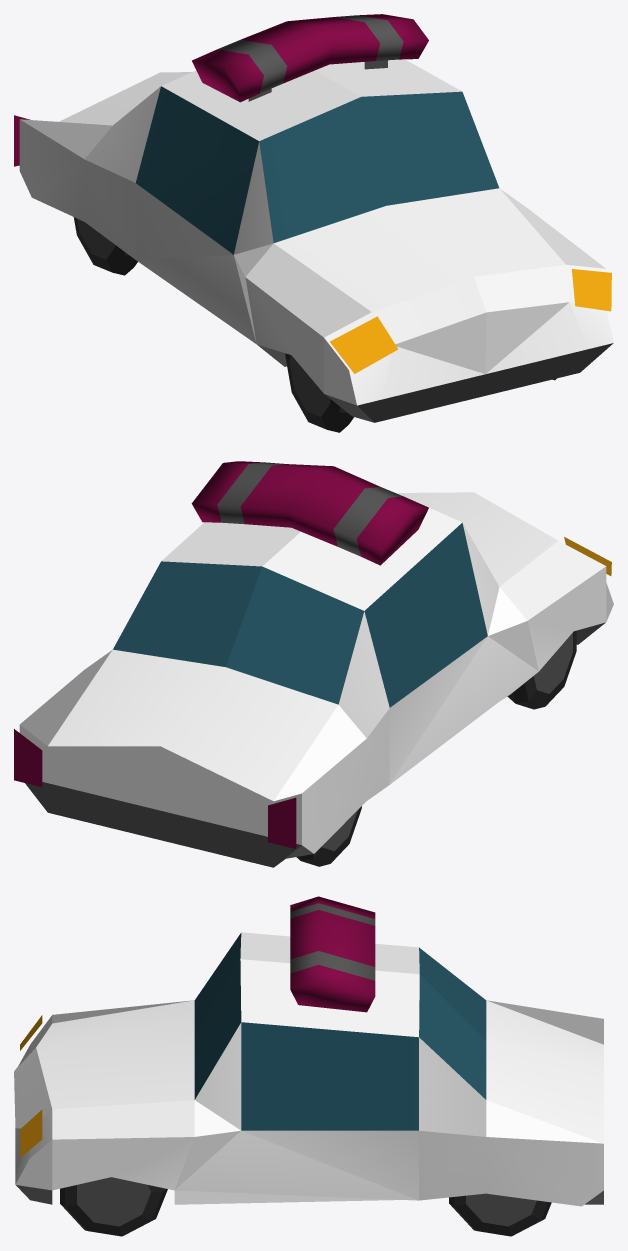
Rendered from police_car.FBX.
3 renders of one model, top to bottom at view 1: azimuth 30°, elevation 25°; view 2: azimuth 150°, elevation 25°; view 3: azimuth 270°, elevation 25°, orthographic. The views are drawn at different scales.
Visible parts, largest first — view 1: Mesh; view 2: Mesh; view 3: Mesh.
Part boxes in pixels (left/top/right/bottom): Mesh: left=14, top=14, right=613, bottom=432; Mesh: left=14, top=461, right=613, bottom=867; Mesh: left=14, top=896, right=603, bottom=1236.
Bounding box in the file's own units: 1.46 × 1.44 × 2.96.
